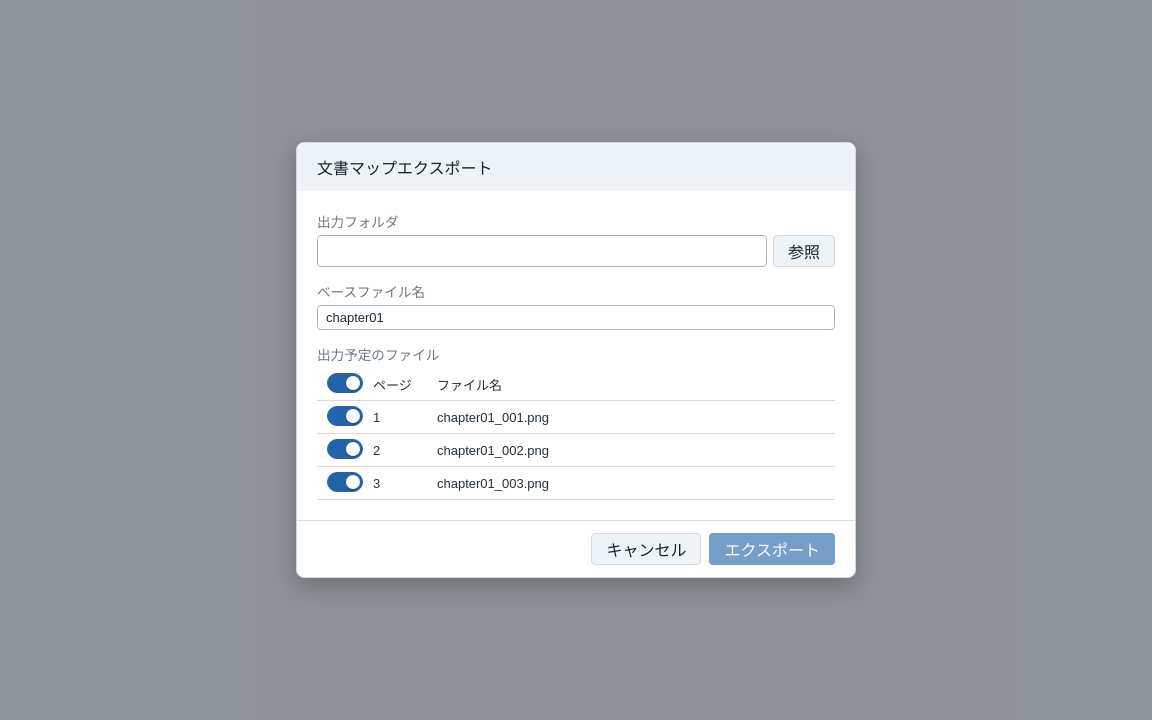
Test: DocumentMapPngExportDialog (#537) › enables Export once a folder is selected via Browse
The image size is (1152, 720).
Click the button "参照" at {"x": 804, "y": 251}, box left=773, top=235, right=835, bottom=267
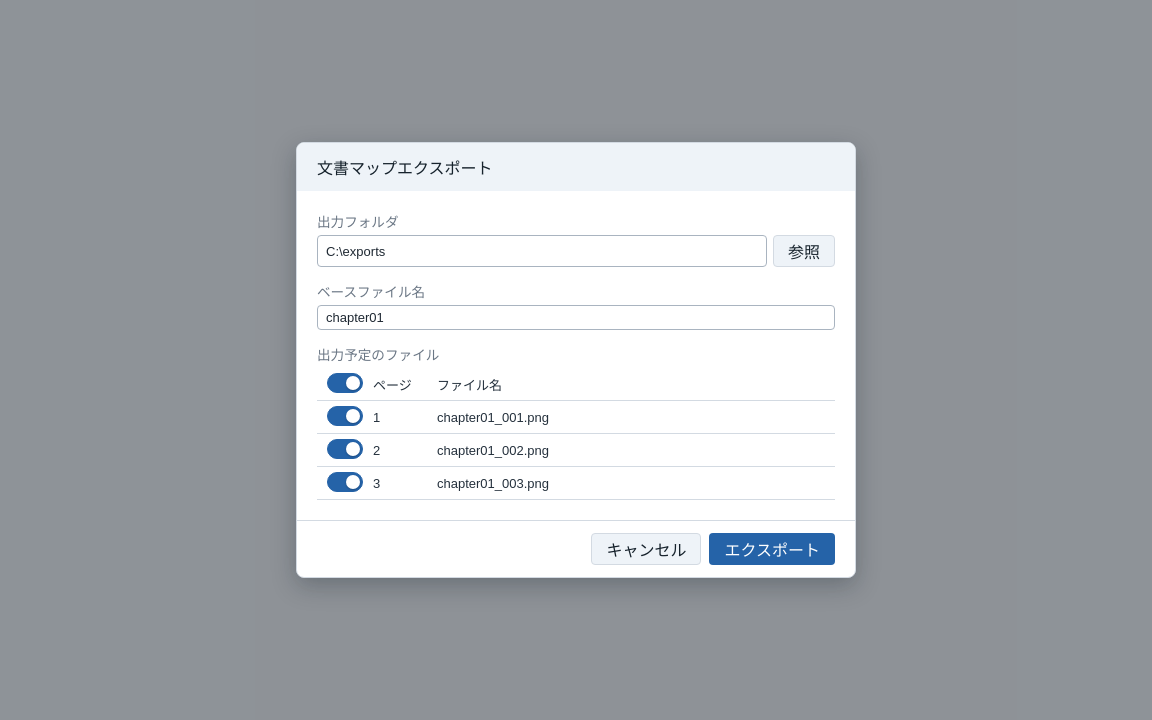
Check: the button "エクスポート" is enabled, box left=710, top=533, right=835, bottom=565
